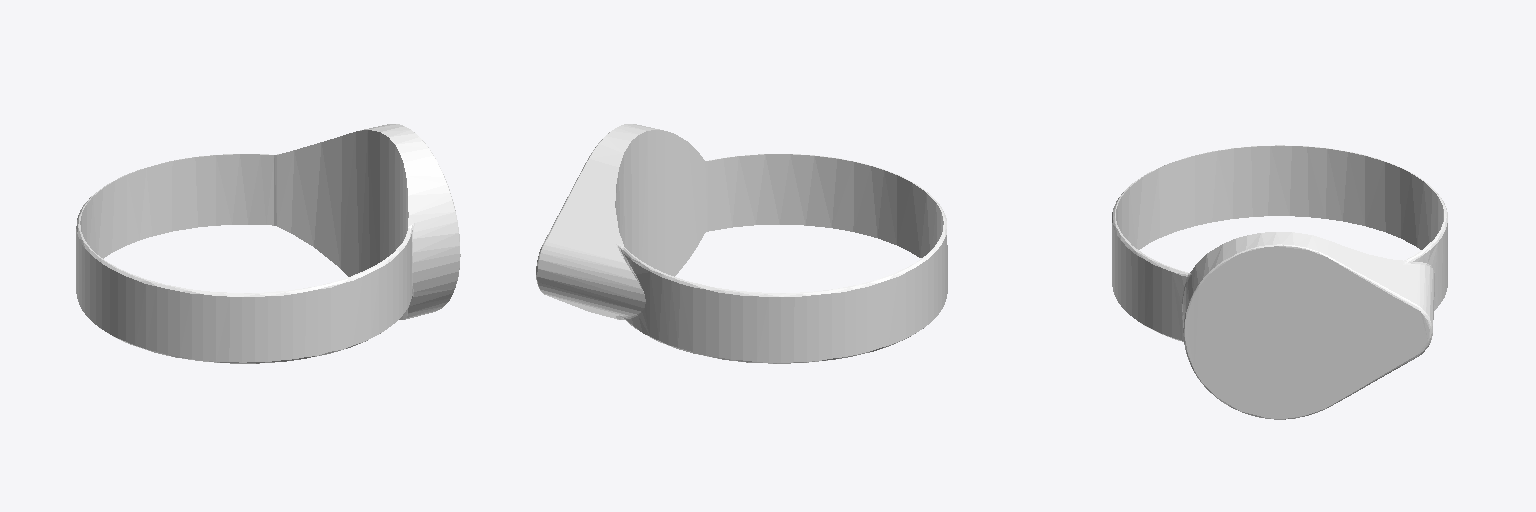
The model's file is elbow_flex.obj.
3 views of the same model, side by side, from view 1: azimuth 30°, elevation 25°; view 2: azimuth 150°, elevation 25°; view 3: azimuth 270°, elevation 25° (orthographic).
Bounding box in the file's own units: 1.72 × 0.925 × 1.6.